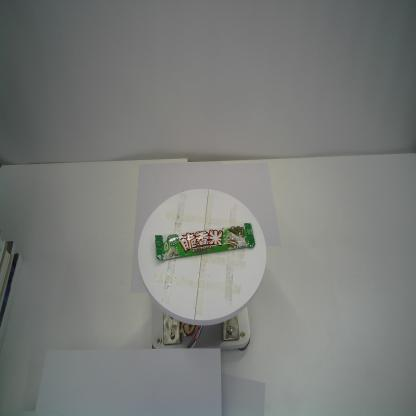Chocolate: (153, 220, 257, 262)
